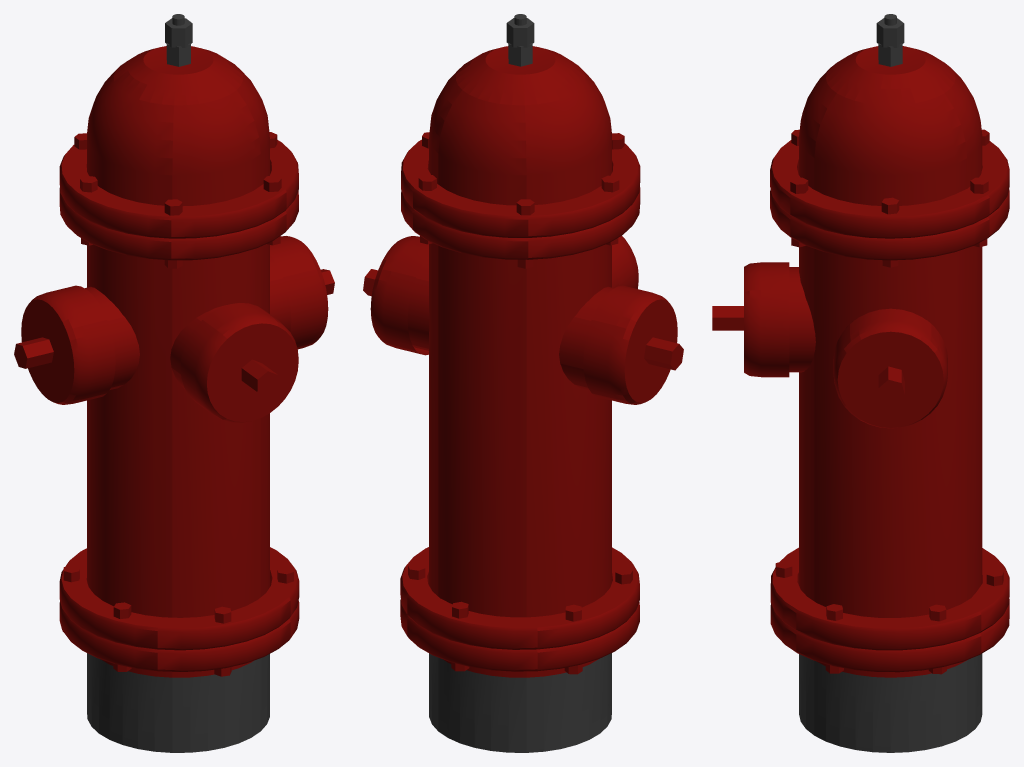
The model's file is fireHydrant.FBX.
3 views of the same model, side by side, from view 1: azimuth 30°, elevation 25°; view 2: azimuth 150°, elevation 25°; view 3: azimuth 270°, elevation 25° (orthographic).
Visible parts, largest first — view 1: Cylinder.0; view 2: Cylinder.0; view 3: Cylinder.0.
Part boxes in pixels (left/top/right/bottom): Cylinder.0: left=14, top=14, right=334, bottom=752; Cylinder.0: left=363, top=14, right=683, bottom=752; Cylinder.0: left=712, top=14, right=1009, bottom=752.
Bounding box in the file's own units: 21.28 × 46.1 × 17.82.
